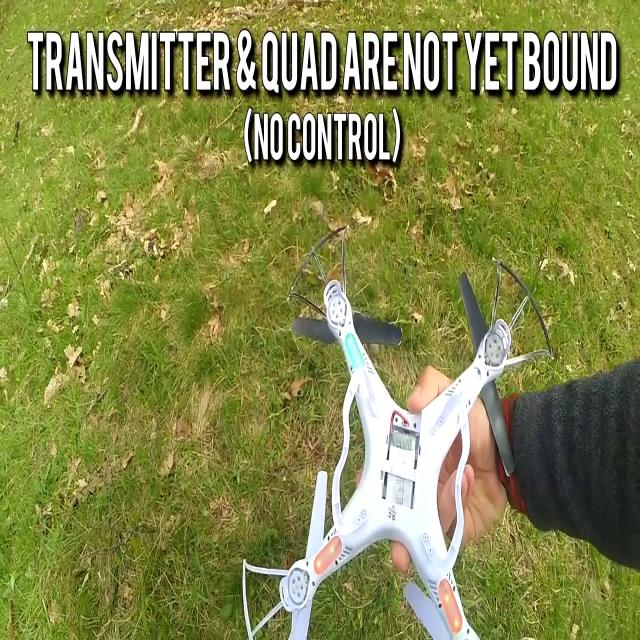drones: (236, 222, 556, 640)
